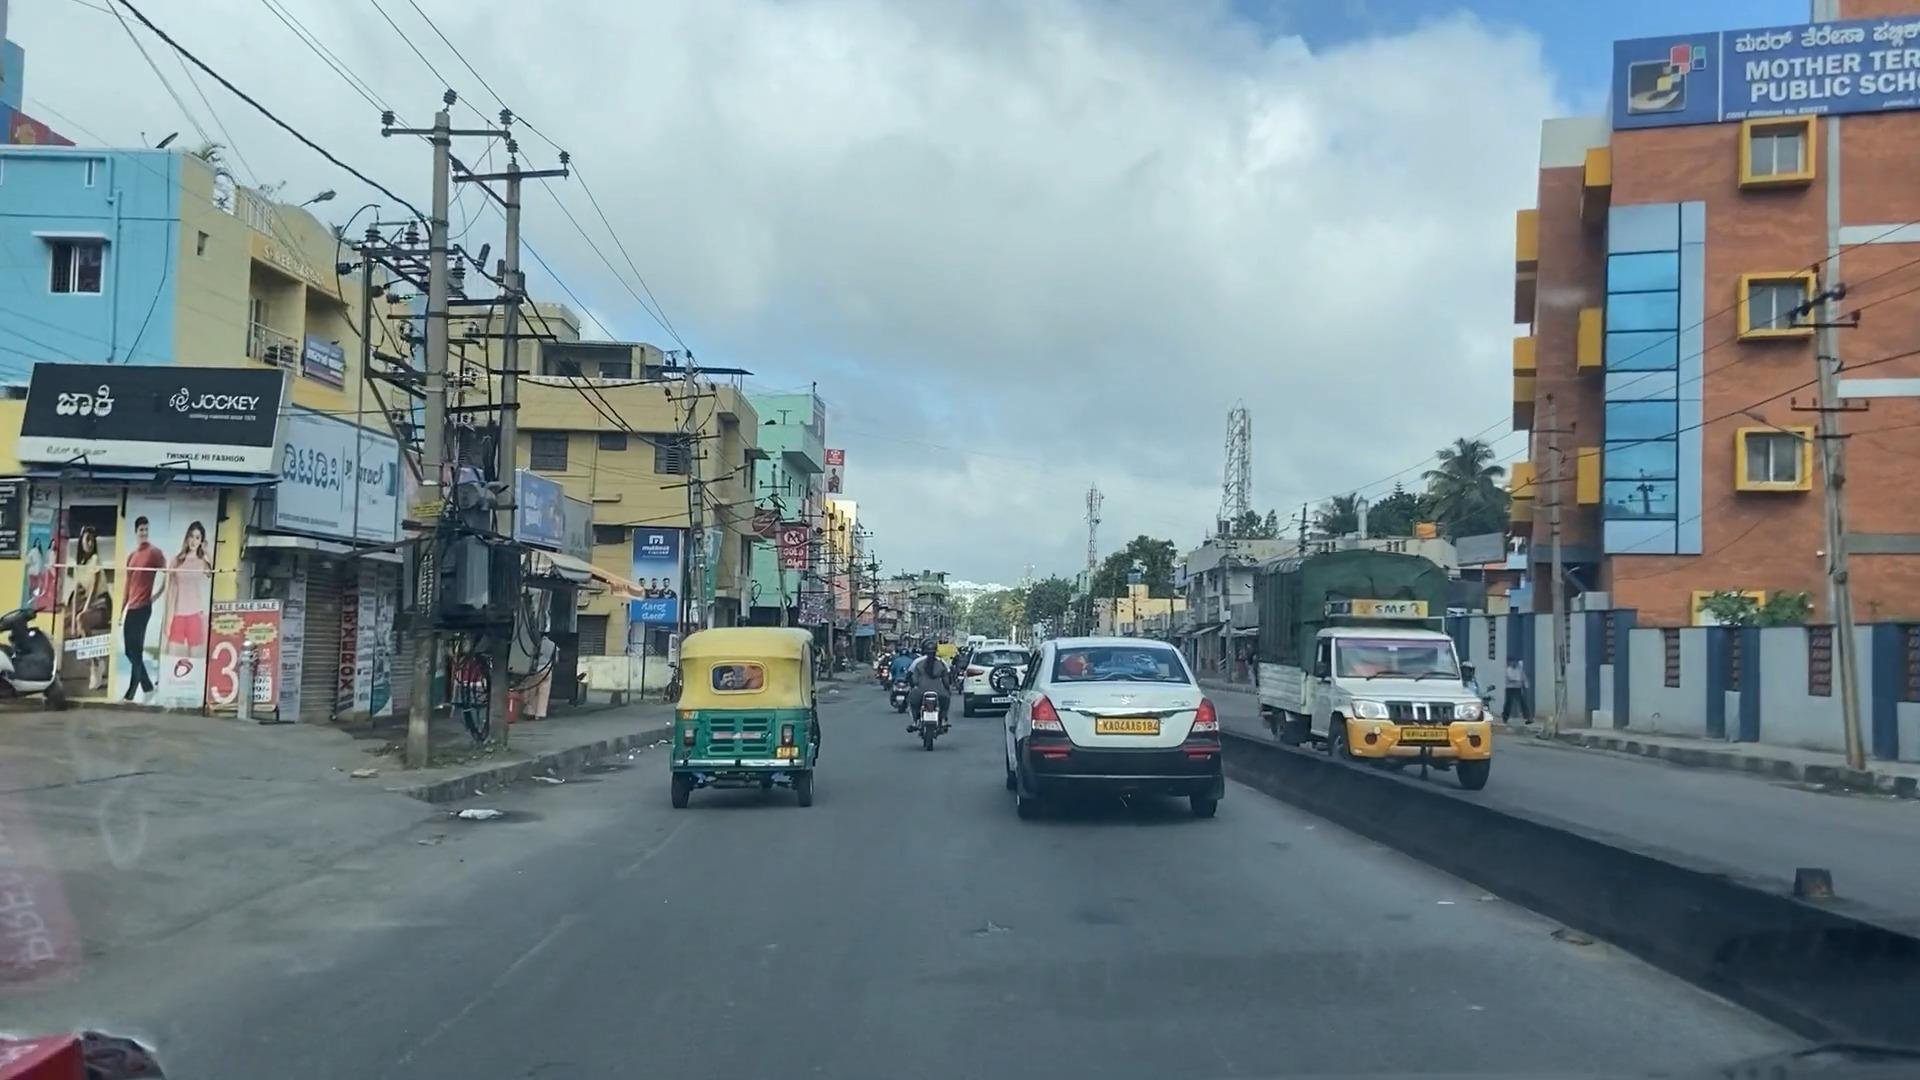LMV: (1001, 645, 1229, 832), (682, 628, 827, 800)
RoadDamages: (378, 914, 592, 1068)
